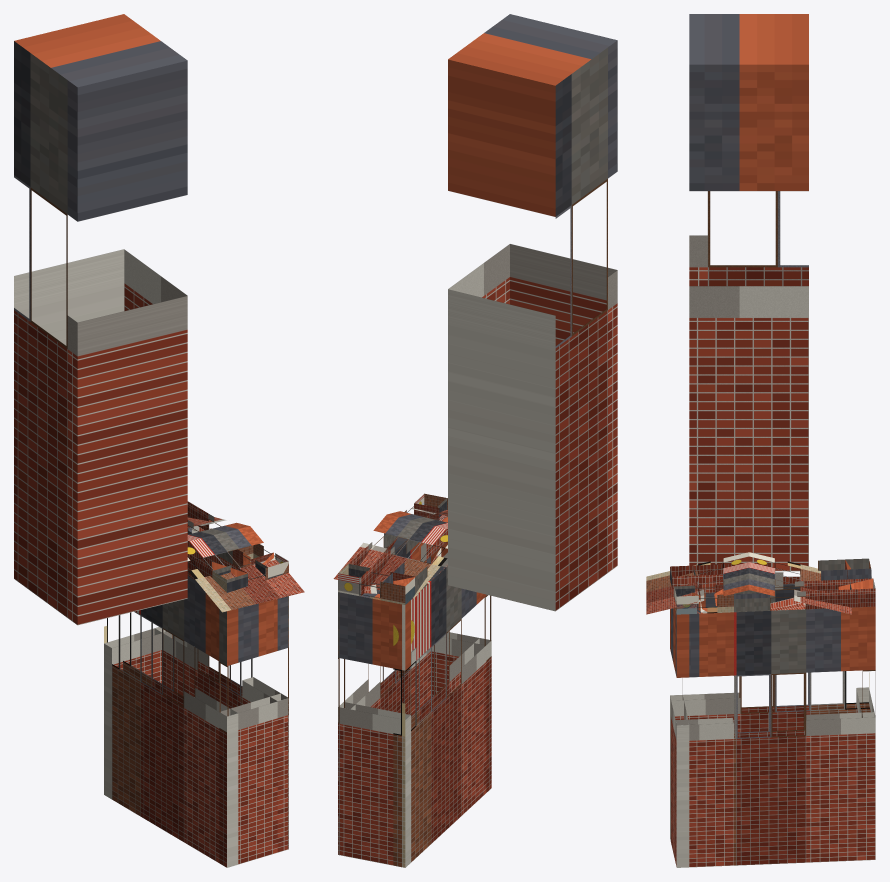
3 views of the same model, side by side, from view 1: azimuth 30°, elevation 25°; view 2: azimuth 150°, elevation 25°; view 3: azimuth 270°, elevation 25° (orthographic). The views are drawn at different scales.
Visible parts, largest first — view 1: 238575823__chimney_0_xb, 238575823__wall_4_xb, 238575823__wall_0_xb, 238575823_roof_-1_xb, 238575823__wall_2_xb, 238575823__wall_1_xb, 238575823__wall_3_xb, 238575823__cornice_4, 238575823__cornice_1, 238575823_roof_1_xb, 238575823__cornice_0, 238575823__cornice_2; view 2: 238575823__chimney_0_xb, 238575823__wall_4_xb, 238575823__wall_3_xb, 238575823_roof_1_xb, 238575823__wall_0_xb, 238575823__wall_2_xb, 238575823__cornice_3, 238575823__wall_1_xb, 238575823__cornice_2, 238575823__cornice_4, 238575823__cornice_0; view 3: 238575823__chimney_0_xb, 238575823__wall_2_xb, 238575823__wall_1_xb, 238575823__wall_4_xb, 238575823__wall_0_xb, 238575823__cornice_2, 238575823__cornice_4, 238575823_roof_-1_xb, 238575823_roof_1_xb, 238575823__cornice_1, 238575823__cornice_0.
Part boxes in pixels (x1,y1,x2,y2): 238575823__chimney_0_xb: (14, 14, 187, 625); 238575823__wall_4_xb: (104, 576, 238, 867); 238575823__wall_0_xb: (219, 598, 288, 867); 238575823_roof_-1_xb: (187, 526, 304, 612); 238575823__wall_2_xb: (154, 527, 252, 708); 238575823__wall_1_xb: (242, 560, 288, 852); 238575823__wall_3_xb: (104, 628, 172, 799); 238575823__cornice_4: (187, 541, 247, 592); 238575823__cornice_1: (232, 544, 288, 579); 238575823_roof_1_xb: (187, 517, 249, 540); 238575823__cornice_0: (212, 552, 288, 592); 238575823__cornice_2: (187, 501, 232, 564); 238575823__chimney_0_xb: (448, 14, 617, 611); 238575823__wall_4_xb: (393, 552, 491, 867); 238575823__wall_3_xb: (338, 592, 410, 867); 238575823_roof_1_xb: (333, 514, 447, 598); 238575823__wall_0_xb: (431, 517, 491, 792); 238575823__wall_2_xb: (338, 537, 411, 854); 238575823__cornice_3: (338, 564, 415, 604); 238575823__wall_1_xb: (411, 542, 430, 715); 238575823__cornice_2: (338, 533, 418, 596); 238575823__cornice_4: (382, 522, 447, 604); 238575823__cornice_0: (414, 493, 447, 520); 238575823__chimney_0_xb: (689, 14, 808, 571); 238575823__wall_2_xb: (734, 606, 875, 865); 238575823__wall_1_xb: (675, 608, 733, 867); 238575823__wall_4_xb: (670, 583, 869, 841); 238575823__wall_0_xb: (671, 606, 689, 867); 238575823__cornice_2: (734, 578, 875, 612); 238575823__cornice_4: (670, 558, 871, 593); 238575823_roof_-1_xb: (646, 552, 749, 614); 238575823_roof_1_xb: (749, 552, 851, 614); 238575823__cornice_1: (674, 584, 733, 614); 238575823__cornice_0: (672, 566, 700, 614).
Bounding box in the file's own units: 0.2786 × 1.05 × 0.2871.
1 material, 1 textured.
